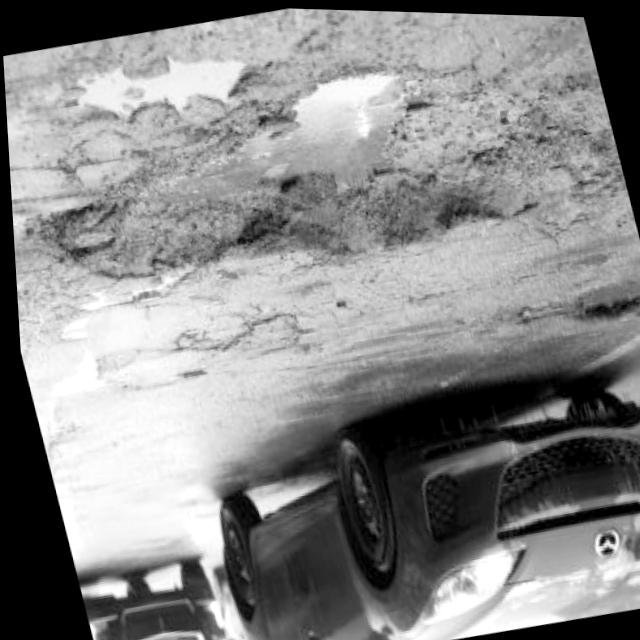pathole: (3, 7, 531, 388), (496, 220, 640, 337)
